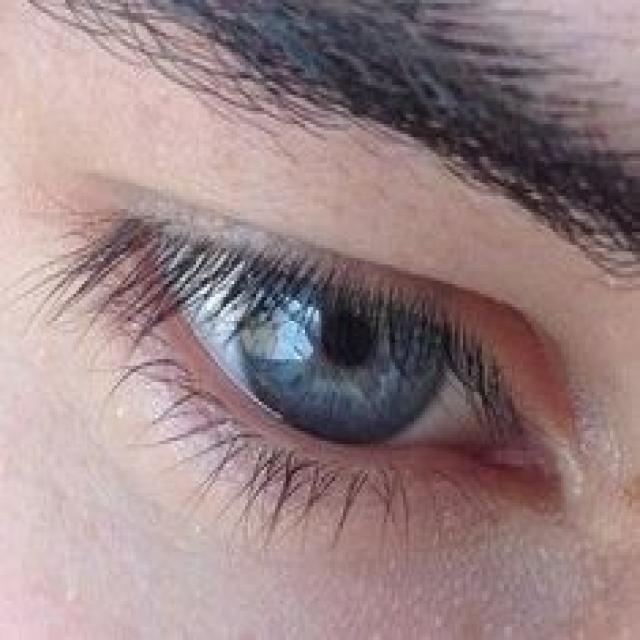Normal: (56, 200, 602, 542)
